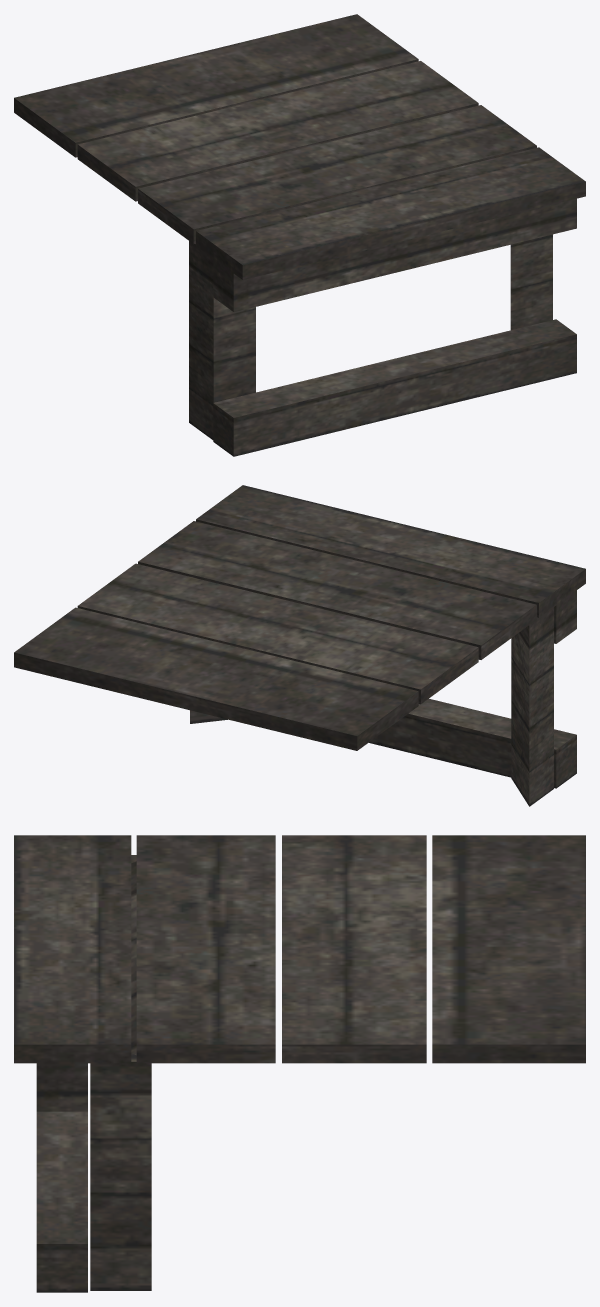
The model's file is dyn_porch_2.obj.
3 views of the same model, one above another, from view 1: azimuth 30°, elevation 25°; view 2: azimuth 150°, elevation 25°; view 3: azimuth 270°, elevation 25° (orthographic). The views are drawn at different scales.
Visible parts, largest first — view 1: DYN_PORCH_2; view 2: DYN_PORCH_2; view 3: DYN_PORCH_2.
Boxes of the visible parts, x1,y1,x2,y2 form: DYN_PORCH_2: (14,14,585,456); DYN_PORCH_2: (14,485,585,806); DYN_PORCH_2: (14,835,585,1292).
Bounding box in the file's own units: 1.51 × 0.8315 × 1.74.
